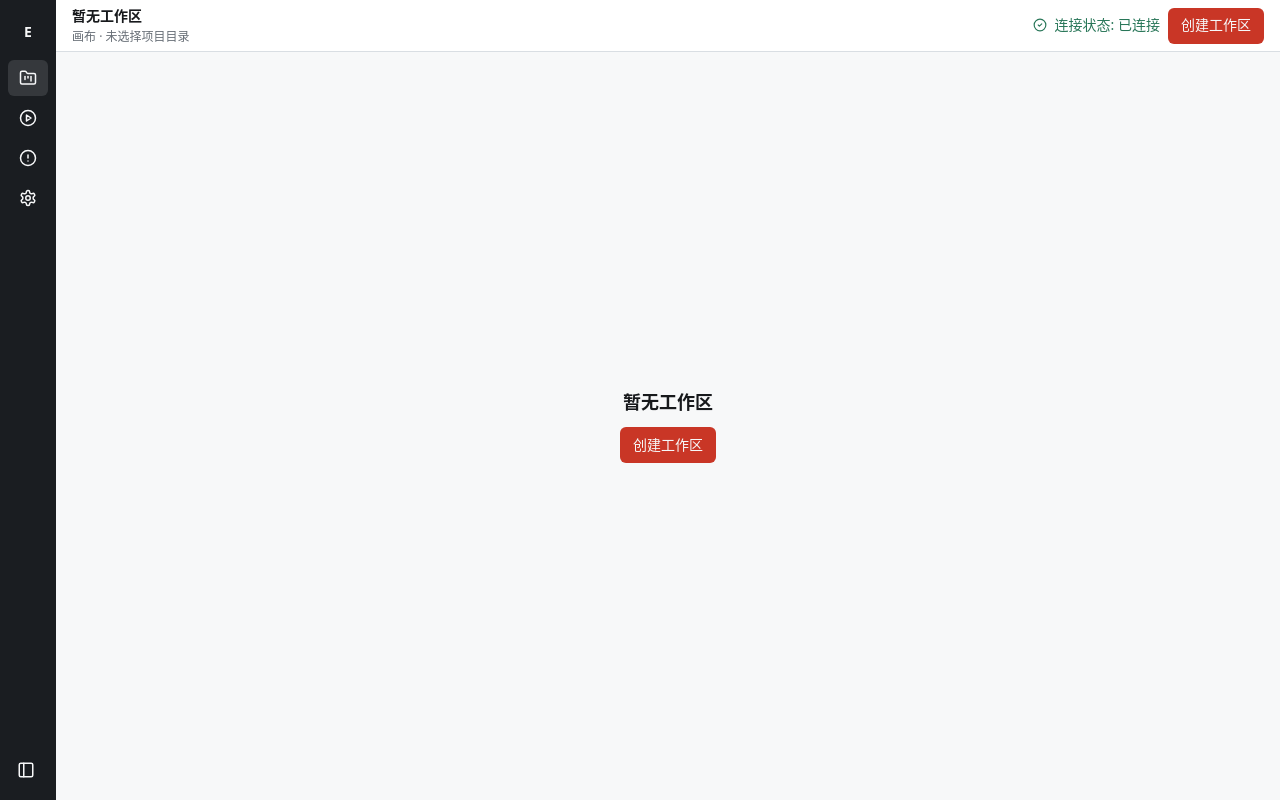
Scenario: AppShell root lifecycle › keeps UI locale independent from draft output locale defaults
This screenshot has width=1280, height=800.
Click the button "创建工作区" next to "连接状态: 已连接": (1216, 26) [1168,8,1264,44]
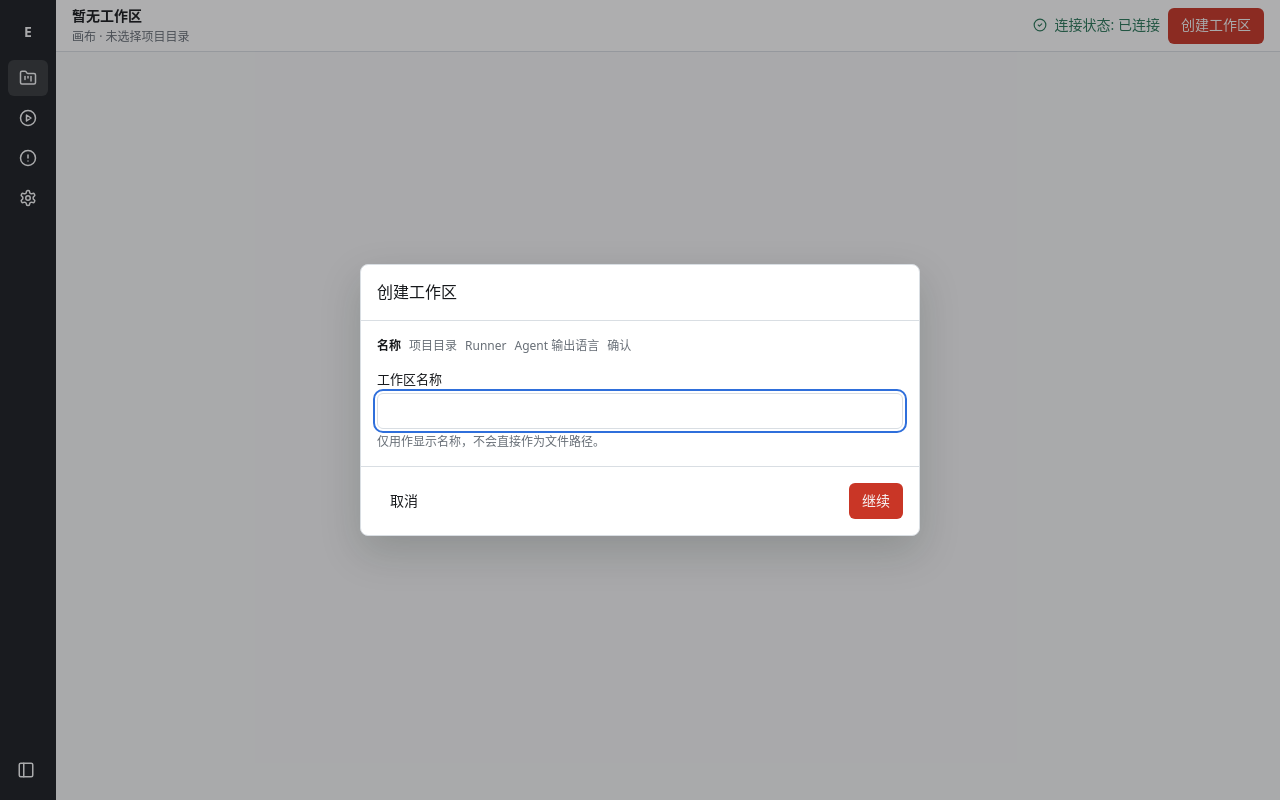
In the field labelled "工作区名称": (640, 411) [377,393,903,429], type "演示"
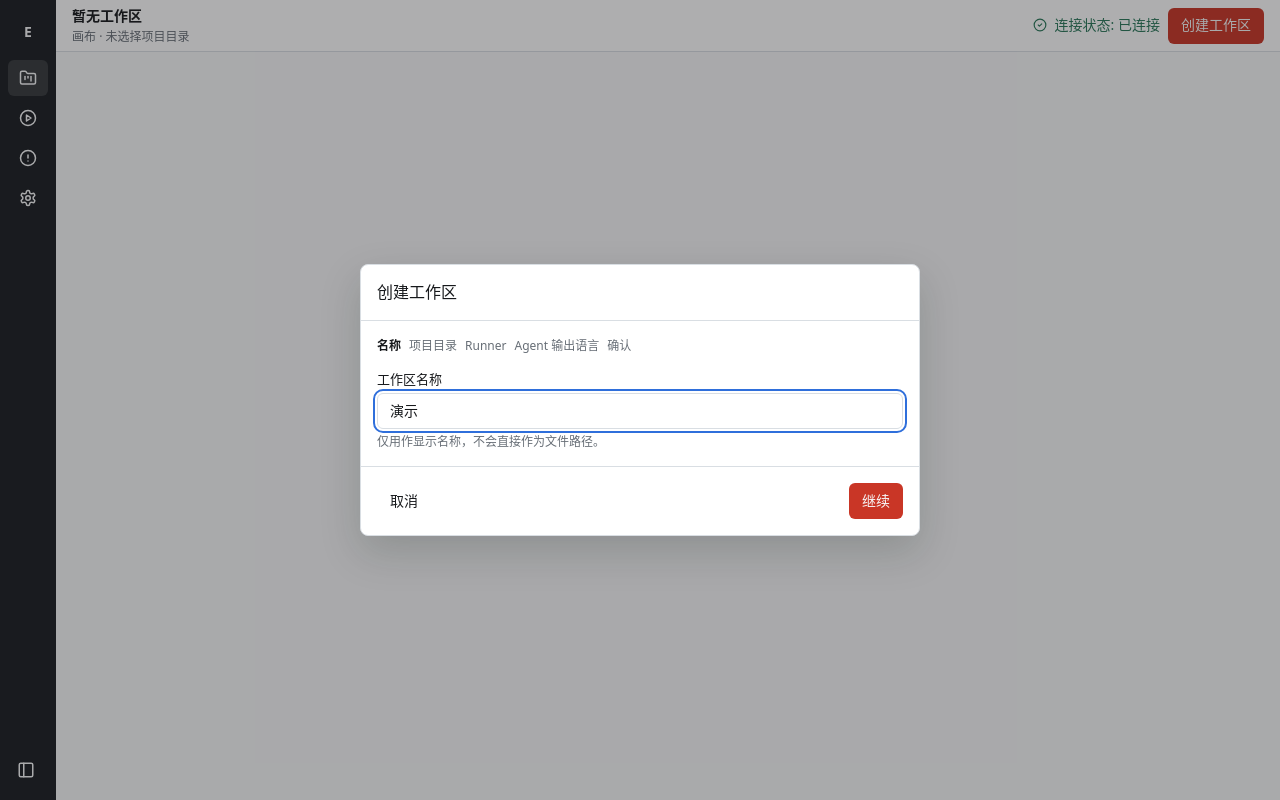
Click the button "继续": (876, 501) [849,483,903,519]
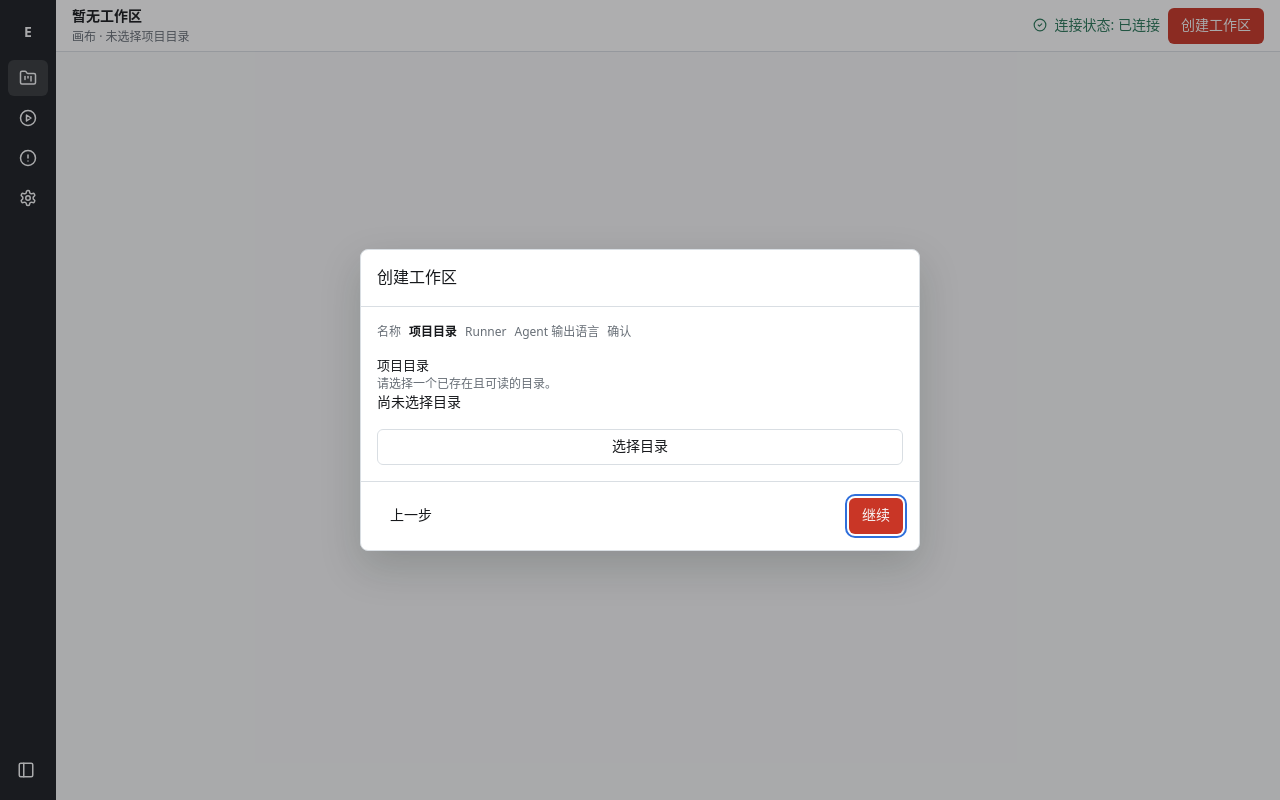
Click the button "选择目录": (640, 446) [377,428,903,464]
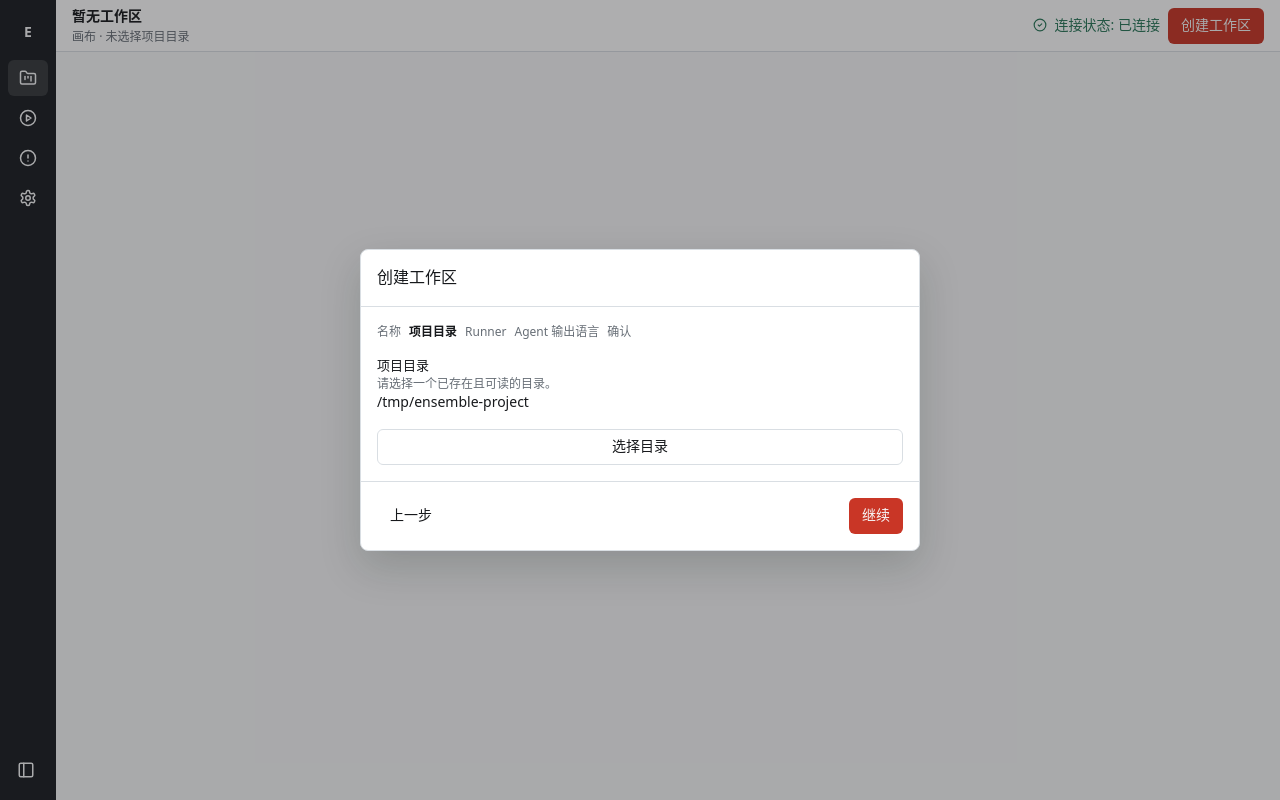
Click the button "继续": (876, 516) [849,498,903,534]
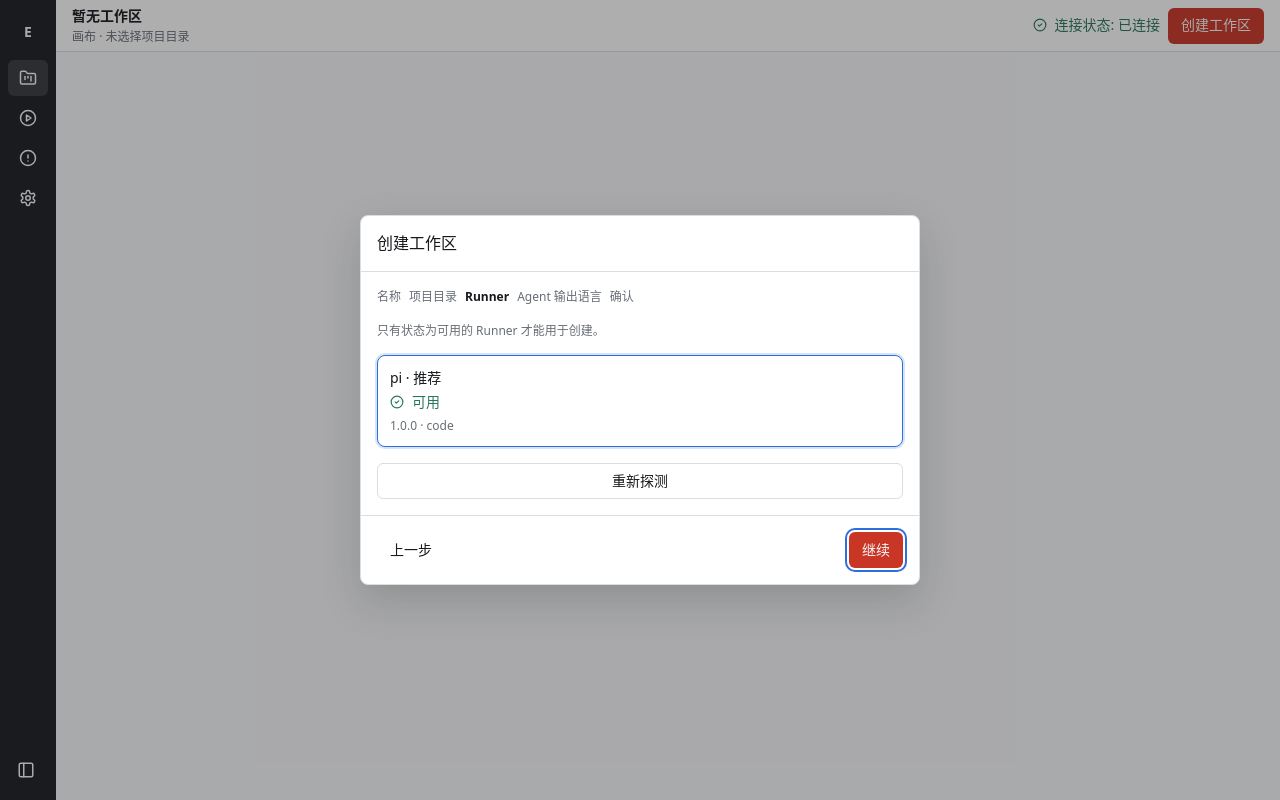
Expected: the button "pi · 推荐 可用 1.0.0 · code" is shown, [377,355,903,447]
Click the button "继续": (876, 550) [849,532,903,568]
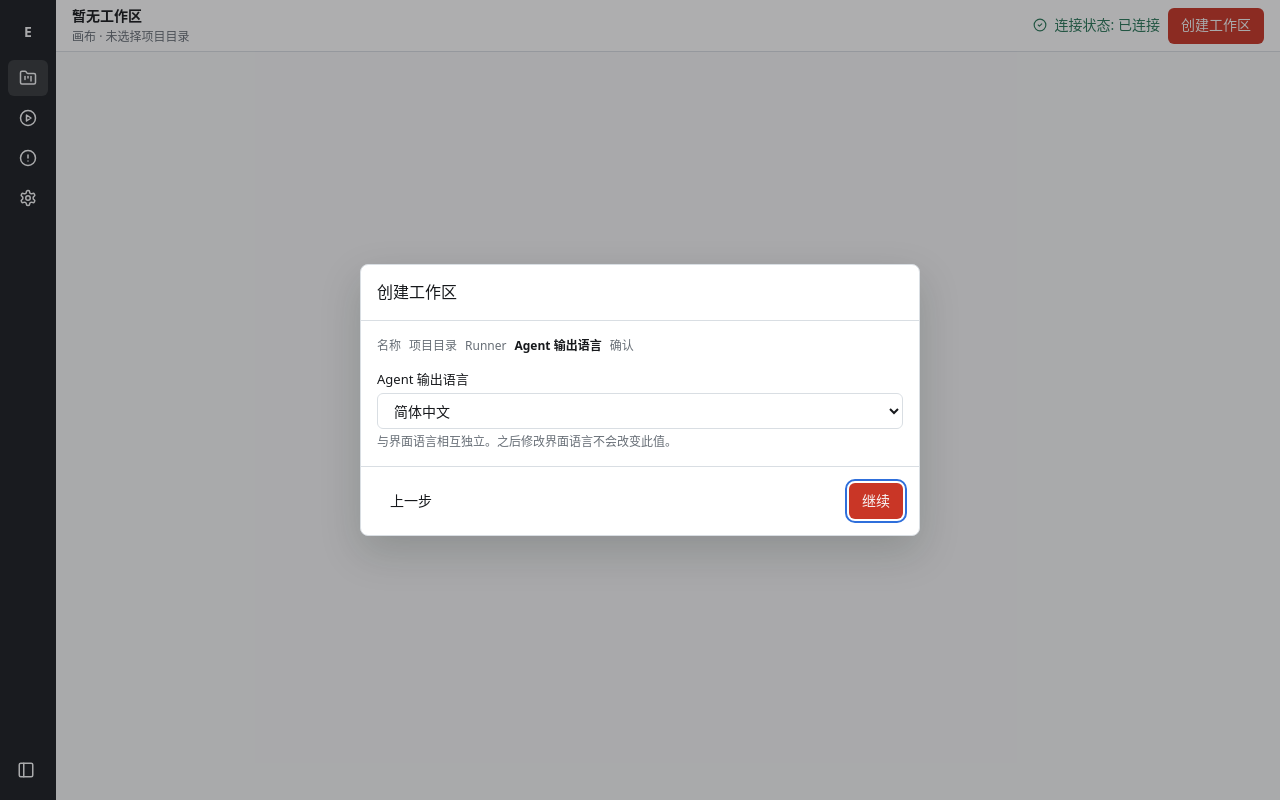
Expected: the dropdown labelled "Agent 输出语言" shows "简体中文", [377,393,903,429]
